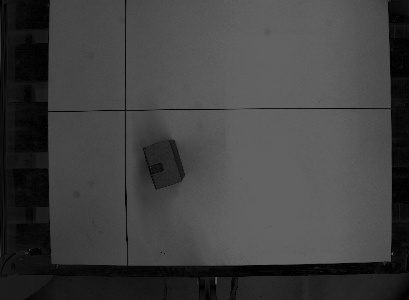b6: (140, 137, 186, 191)
